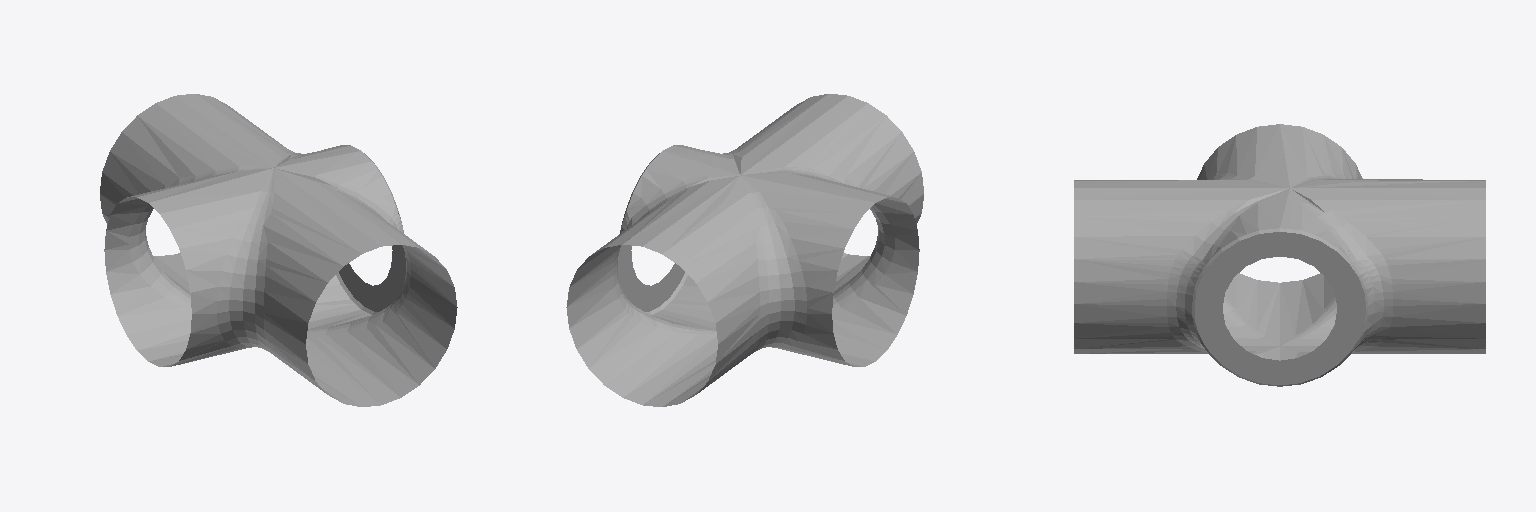
Rendered from toe-pitch-mirror.obj.
3 renders of one model, left to right at view 1: azimuth 30°, elevation 25°; view 2: azimuth 150°, elevation 25°; view 3: azimuth 270°, elevation 25°, orthographic.
Parts seen in each view (by area): view 1: __TMPOBJ_____TMPMESH__.043; view 2: __TMPOBJ_____TMPMESH__.043; view 3: __TMPOBJ_____TMPMESH__.043.
Boxes of the visible parts, x1,y1,x2,y2 form: __TMPOBJ_____TMPMESH__.043: [100, 94, 457, 406]; __TMPOBJ_____TMPMESH__.043: [566, 94, 923, 406]; __TMPOBJ_____TMPMESH__.043: [1074, 124, 1485, 386].
Bounding box in the file's own units: 0.0227 × 0.016 × 0.0377.